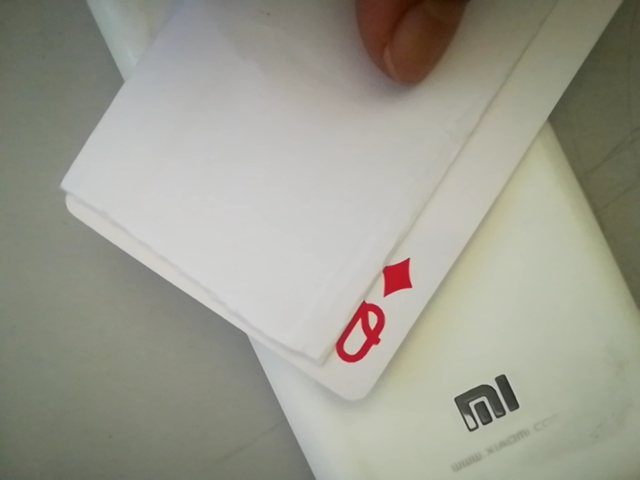fk q: (324, 254, 415, 378)
